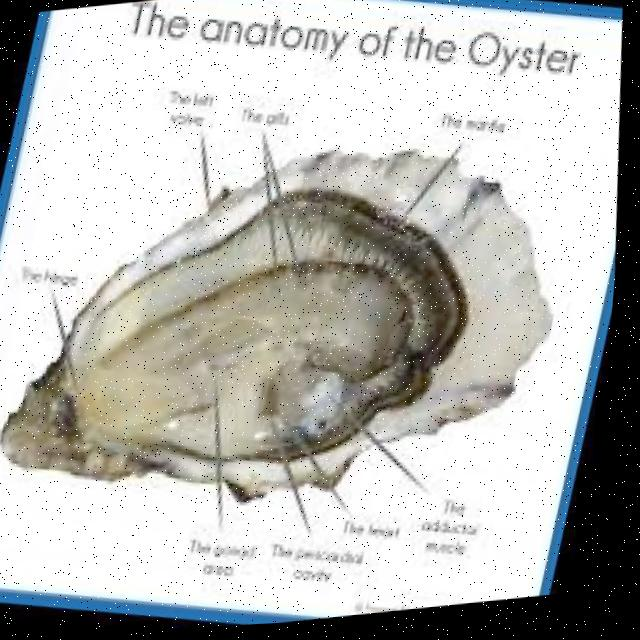Oyster-Open: (1, 150, 551, 502)
